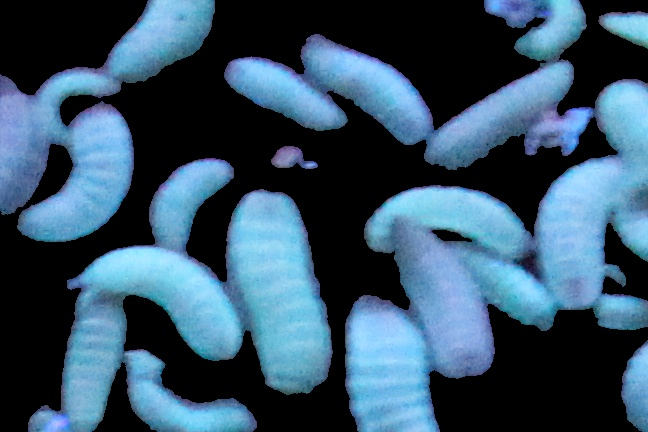larvae: (390, 223, 490, 378), (422, 65, 575, 164), (20, 104, 133, 236), (303, 28, 432, 141), (250, 201, 320, 396), (340, 288, 432, 432), (92, 253, 228, 350), (541, 156, 618, 310), (362, 187, 531, 256), (125, 357, 258, 432), (221, 57, 344, 131), (106, 1, 216, 76), (146, 157, 234, 249), (459, 248, 555, 330), (1, 81, 48, 215), (72, 299, 114, 424), (34, 68, 117, 129), (514, 1, 586, 61), (592, 76, 648, 150), (594, 4, 648, 46)
